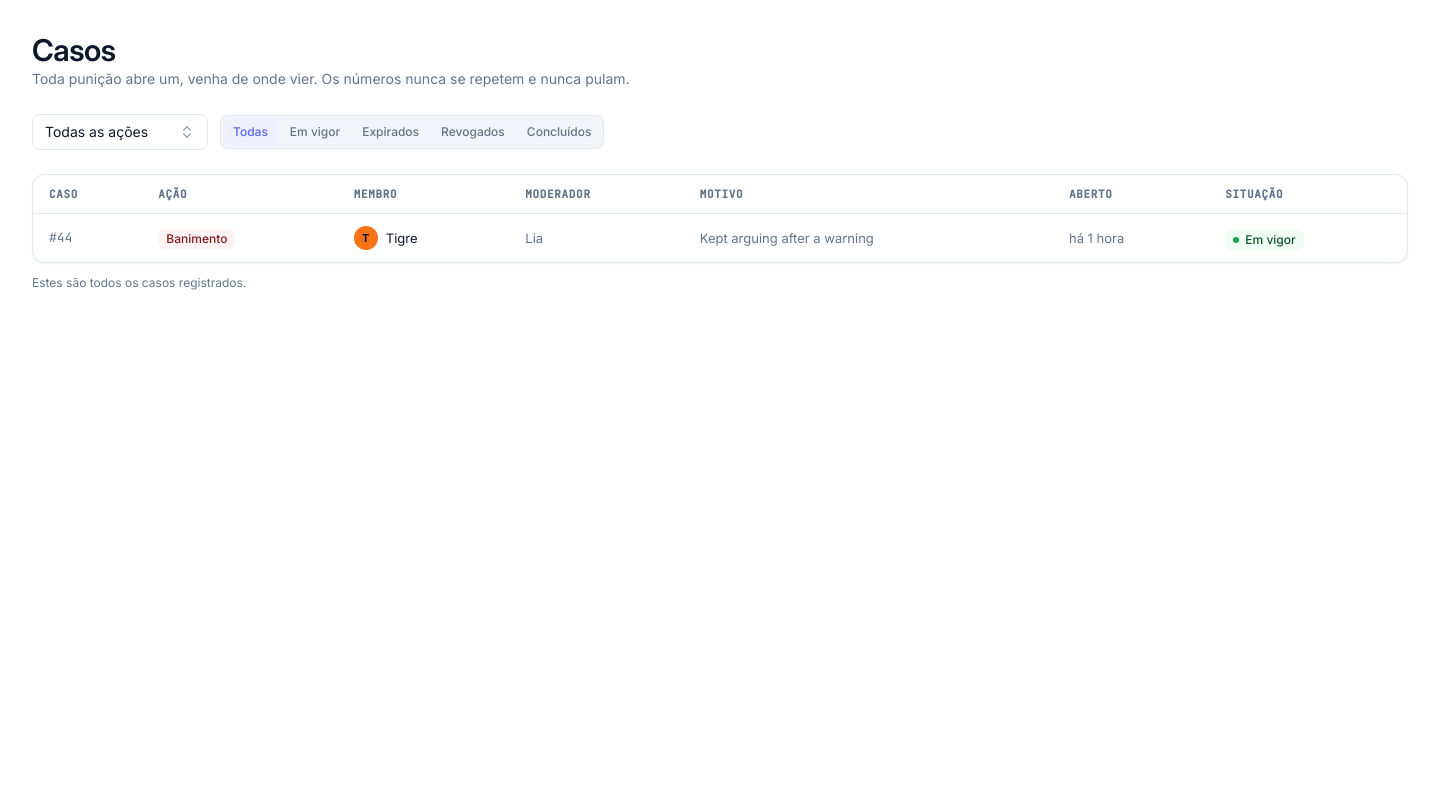
Test: CasesScreen › names the kind in the reader language
Click the button with aria-label "Abrir o caso 44".
click(720, 238)  # box [33,214,1407,262]
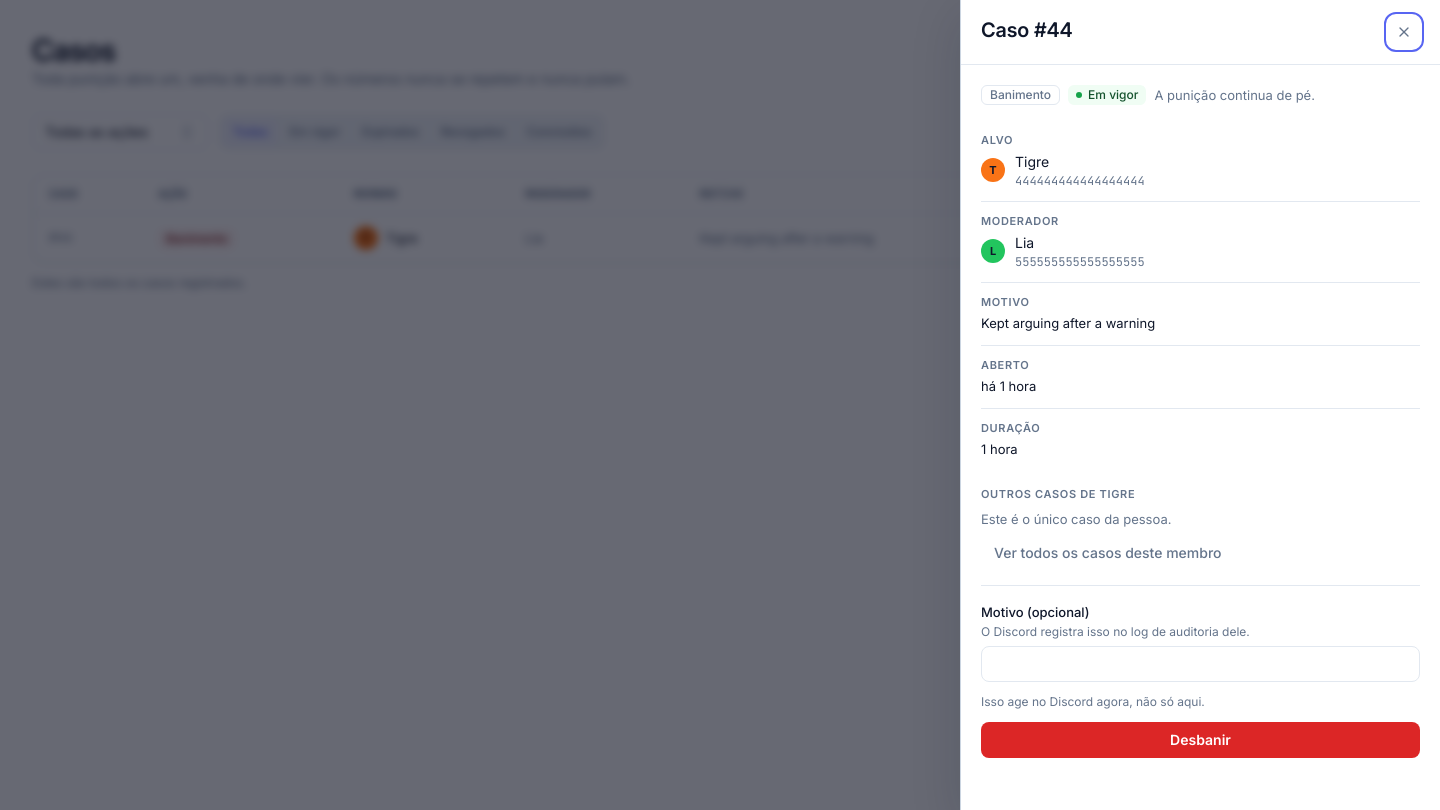
Expected: the text "Banimento" is shown, [981,85,1060,105]
